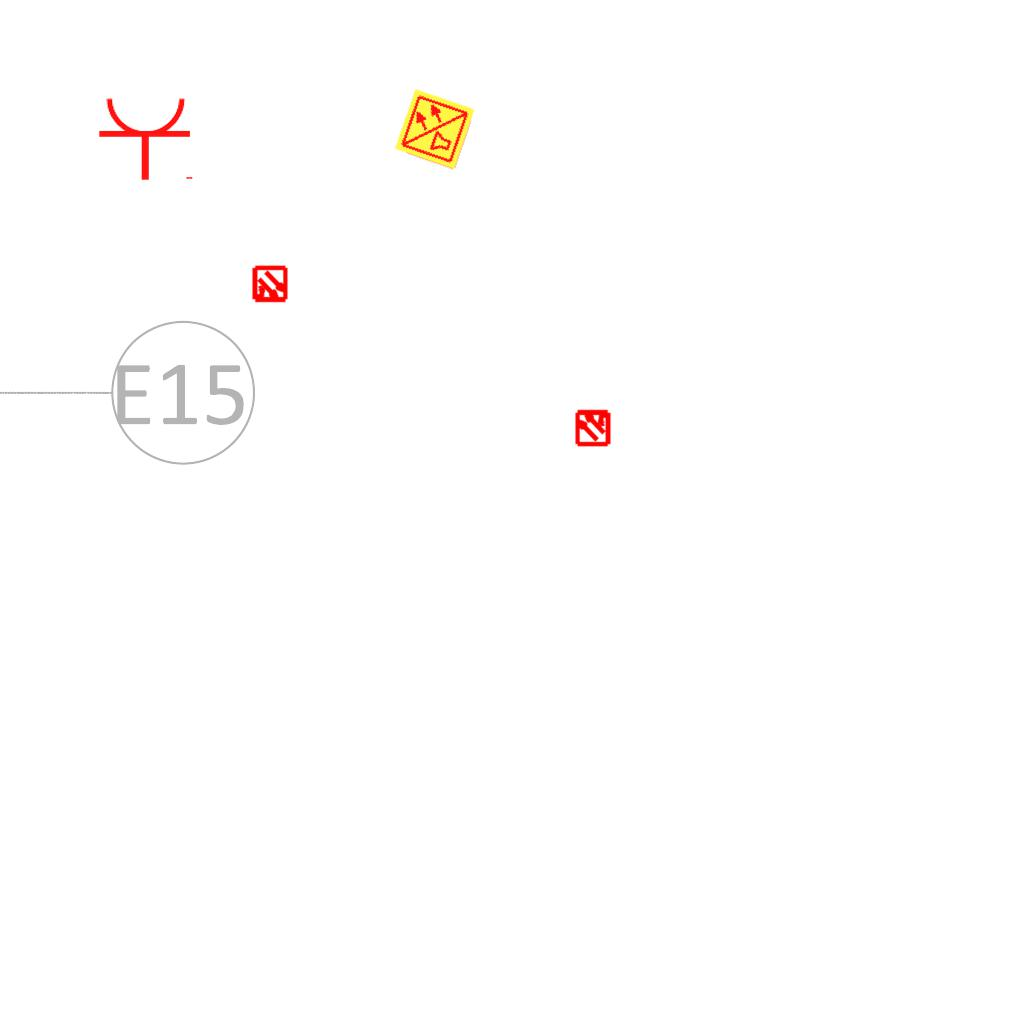OKW_Multisensormelder_(Kombination_optischer_Rauch-Kahlenmonoxid_Waerme-Melder): (393, 87, 477, 171)
OT_Multisensormelder_(Kombination_RMO_WMD): (565, 399, 621, 455), (242, 257, 298, 313)
Schukosteckdose_einfach: (97, 95, 197, 182)
